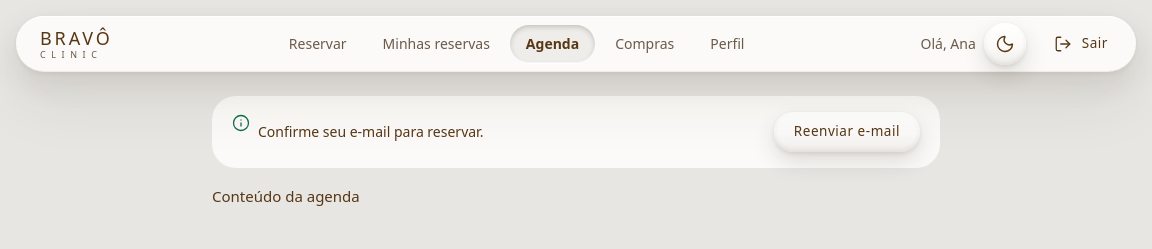
Scenario: AppShell e-mail banner › asks an unverified user to confirm the e-mail and resends the link
Expected: the text "Confirme seu e-mail para reservar." is shown, 258,121 -> 483,143
Step 1. Click the button "Reenviar e-mail" → (847, 132), box 774,112 -> 920,152
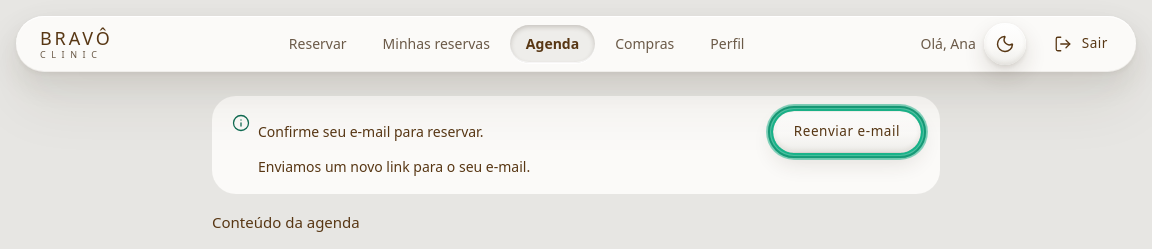
Expected: the text "Enviamos um novo link para o seu e-mail." is shown, 258,157 -> 530,176
